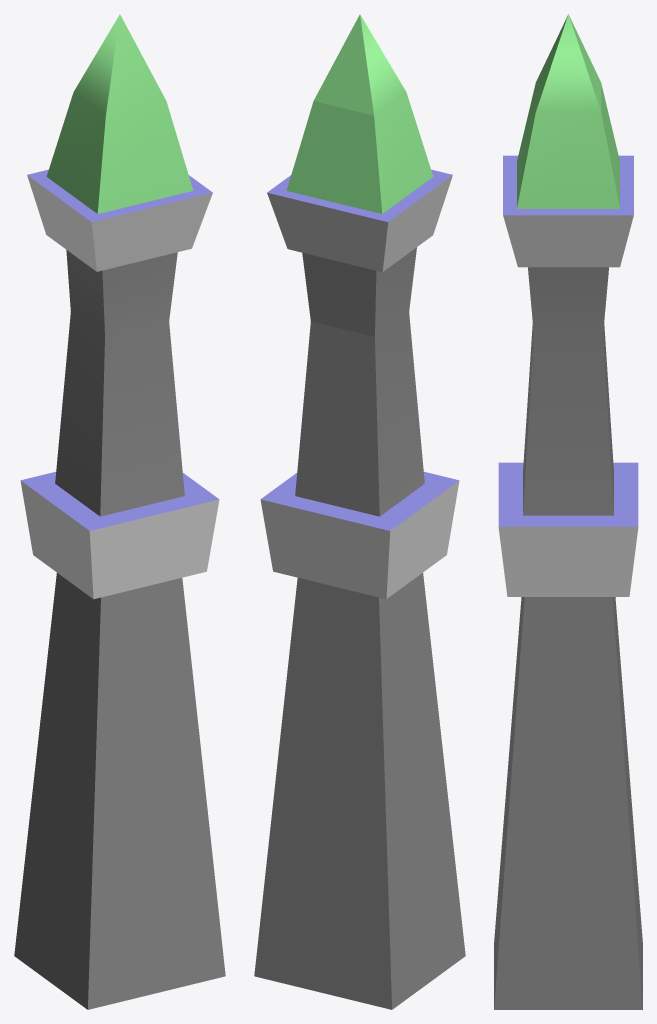
The model's file is interior_B_delf_store_27.gltf.
The picture shows the model from 3 angles, left to right: view 1: azimuth 30°, elevation 25°; view 2: azimuth 150°, elevation 25°; view 3: azimuth 270°, elevation 25°; orthographic projection.
Visible parts, largest first — view 1: interior_B_delf_store_27; view 2: interior_B_delf_store_27; view 3: interior_B_delf_store_27.
Part boxes in pixels (bbox=[...]): interior_B_delf_store_27: bbox=[14, 14, 225, 1009]; interior_B_delf_store_27: bbox=[254, 14, 465, 1009]; interior_B_delf_store_27: bbox=[494, 14, 642, 1009].
Bounding box in the file's own units: 0.1462 × 0.965 × 0.1352.
